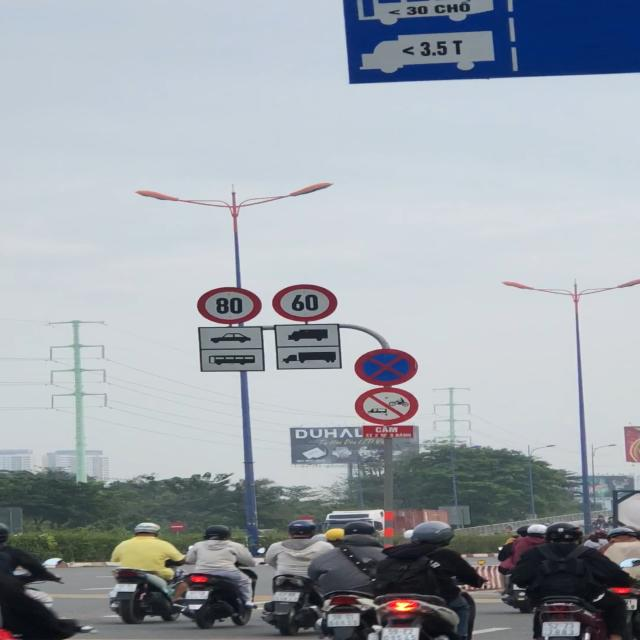Bien bao cam dung xe va do xe: (356, 347, 420, 387)
Bien bao toc do toi da cho phep: (269, 285, 340, 322), (197, 287, 263, 324)
